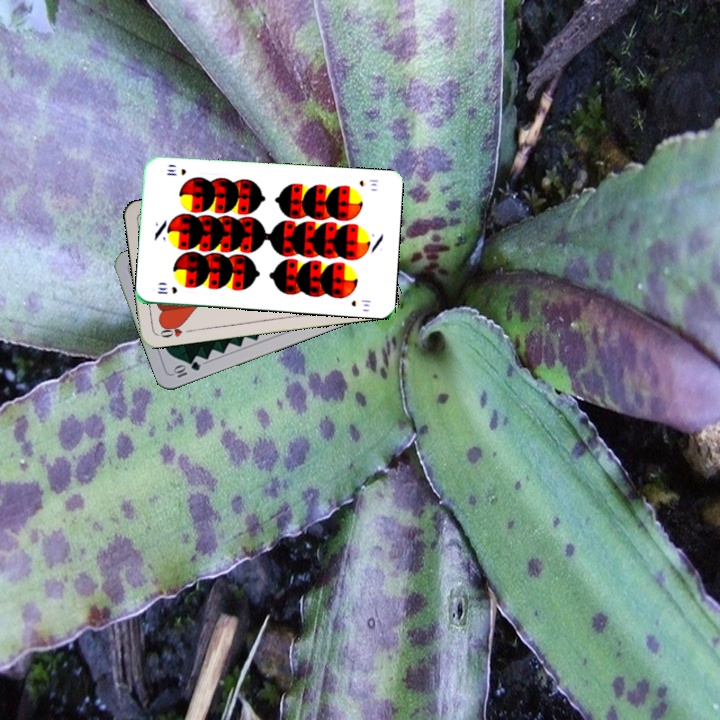G10: (169, 357, 203, 380)
HO: (155, 320, 195, 340)
S10: (355, 175, 381, 189), (153, 283, 180, 296)
